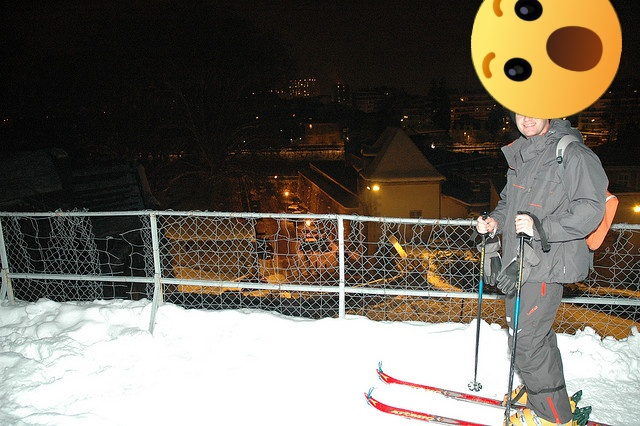wow: (471, 0, 622, 119)
